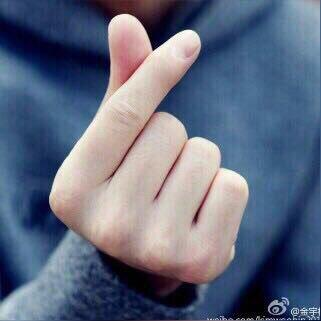heart gesture: (103, 11, 203, 112)
